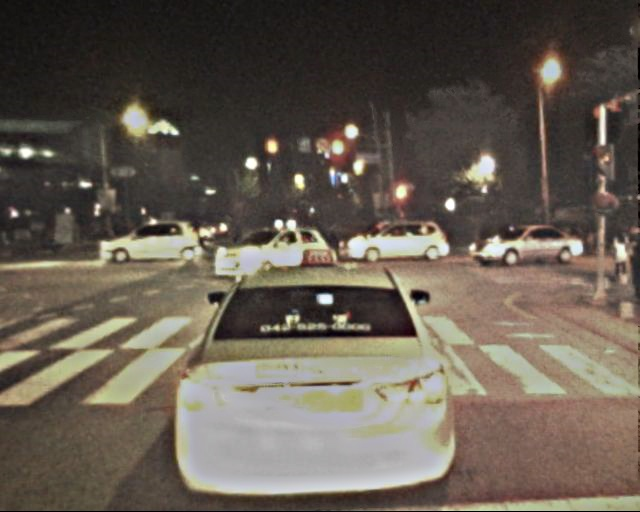person: (612, 230, 634, 283), (314, 220, 338, 255), (289, 219, 303, 252), (110, 219, 123, 251), (192, 217, 205, 249)
